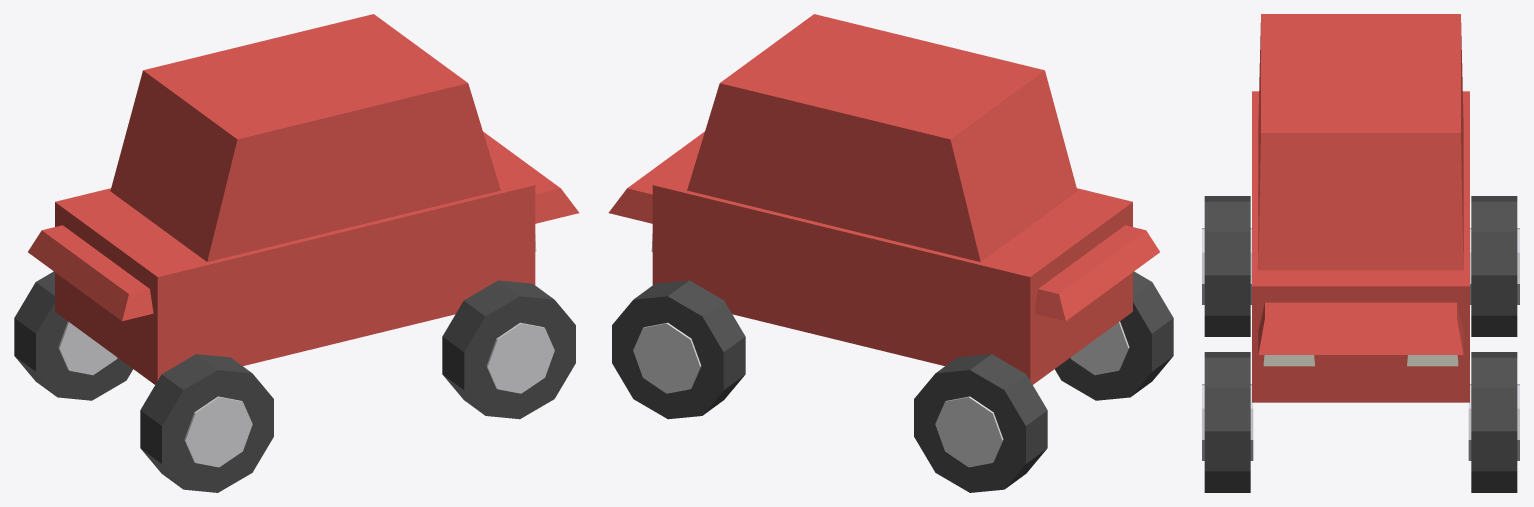
Rendered from compact_car.fbx.
3 views of the same model, side by side, from view 1: azimuth 30°, elevation 25°; view 2: azimuth 150°, elevation 25°; view 3: azimuth 270°, elevation 25° (orthographic). The views are drawn at different scales.
Parts seen in each view (by area): view 1: compact_car; view 2: compact_car; view 3: compact_car.
Boxes of the visible parts, left/top/right/bottom form: compact_car: left=14, top=14, right=579, bottom=492; compact_car: left=608, top=14, right=1173, bottom=492; compact_car: left=1202, top=14, right=1519, bottom=492.
Size of the model in its own units: 2.17 by 1.47 by 1.24.
